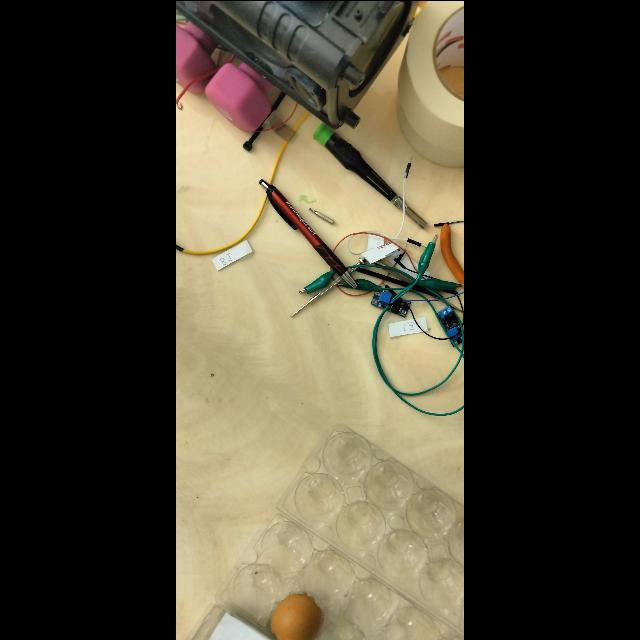Egg: (267, 588, 330, 640)
